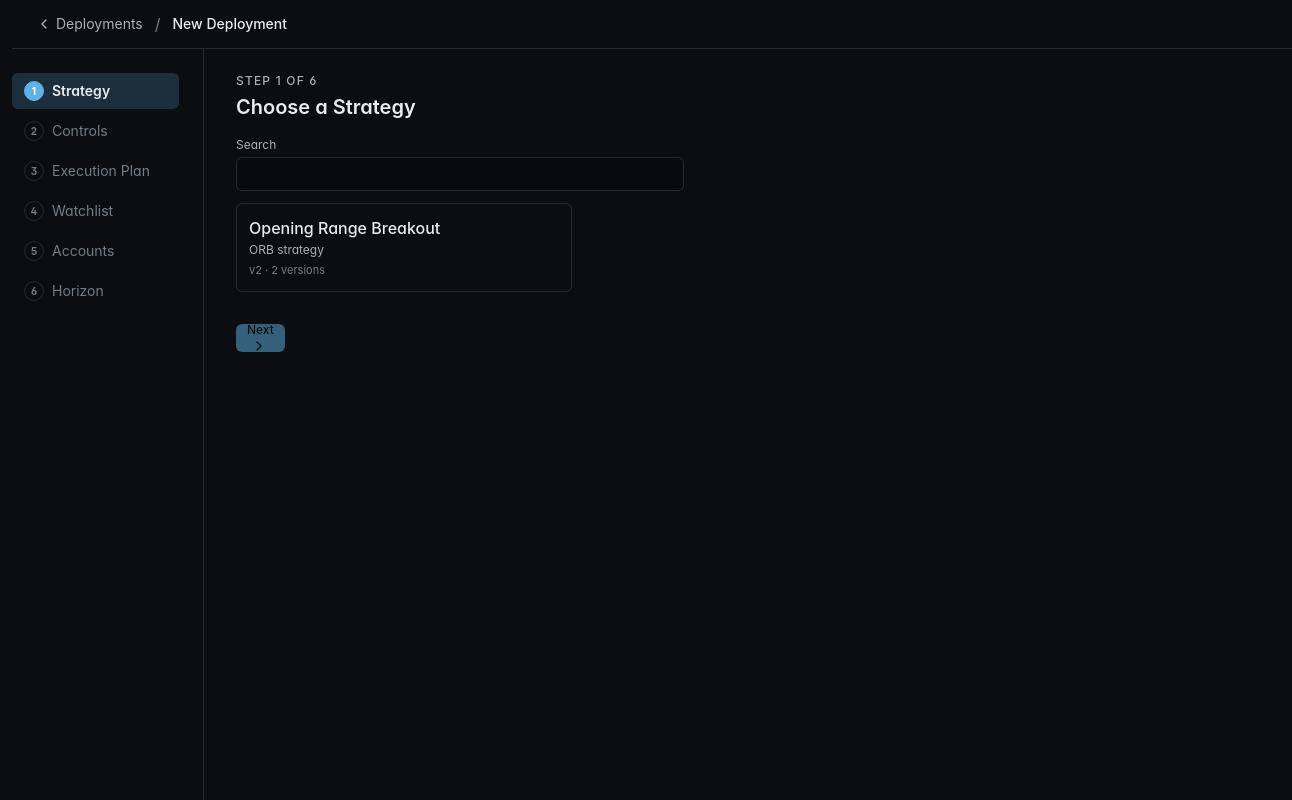
Test case: <NewDeploymentScreen /> › Step 4 (Watchlist) requires at least one selection before Next
Click the text "Opening Range Breakout" at (345, 228), box [249,218,440,238]
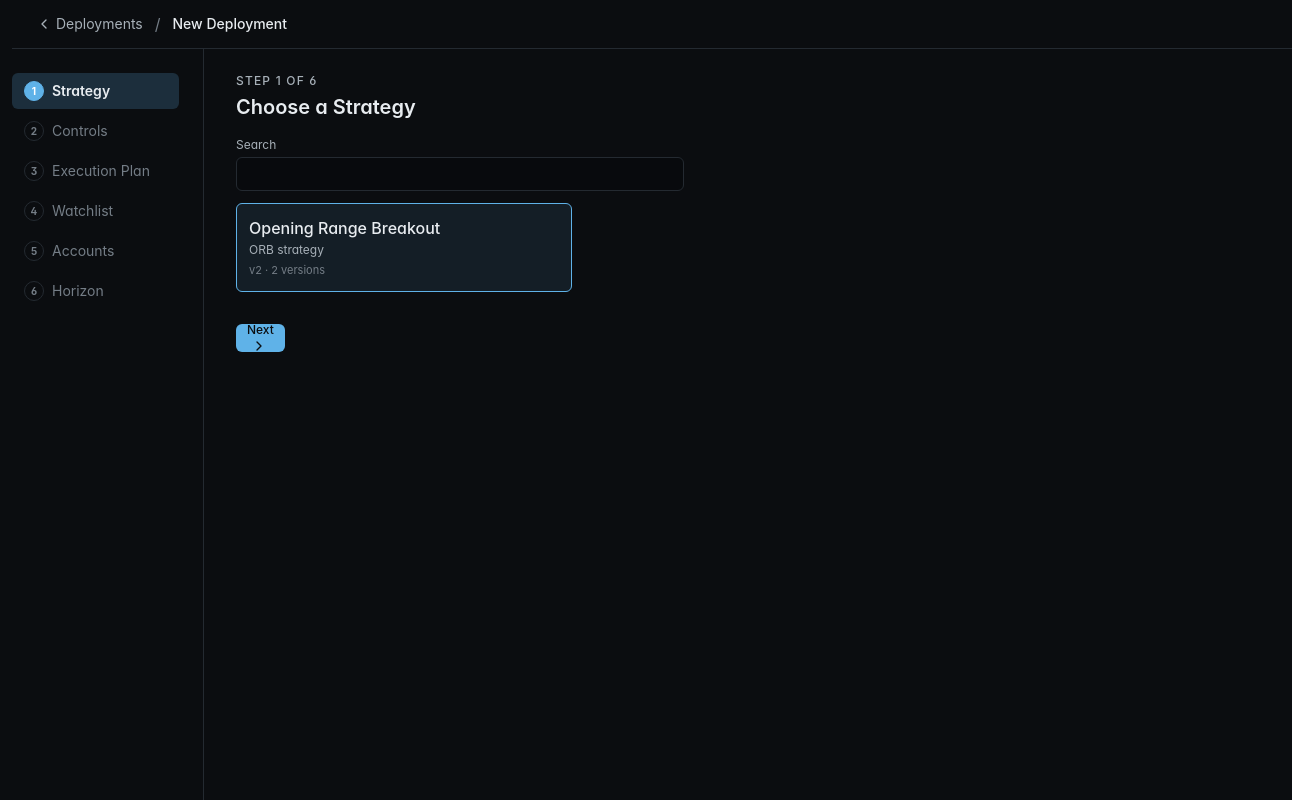
Click the button "Next" at (260, 338), box [236,324,285,352]
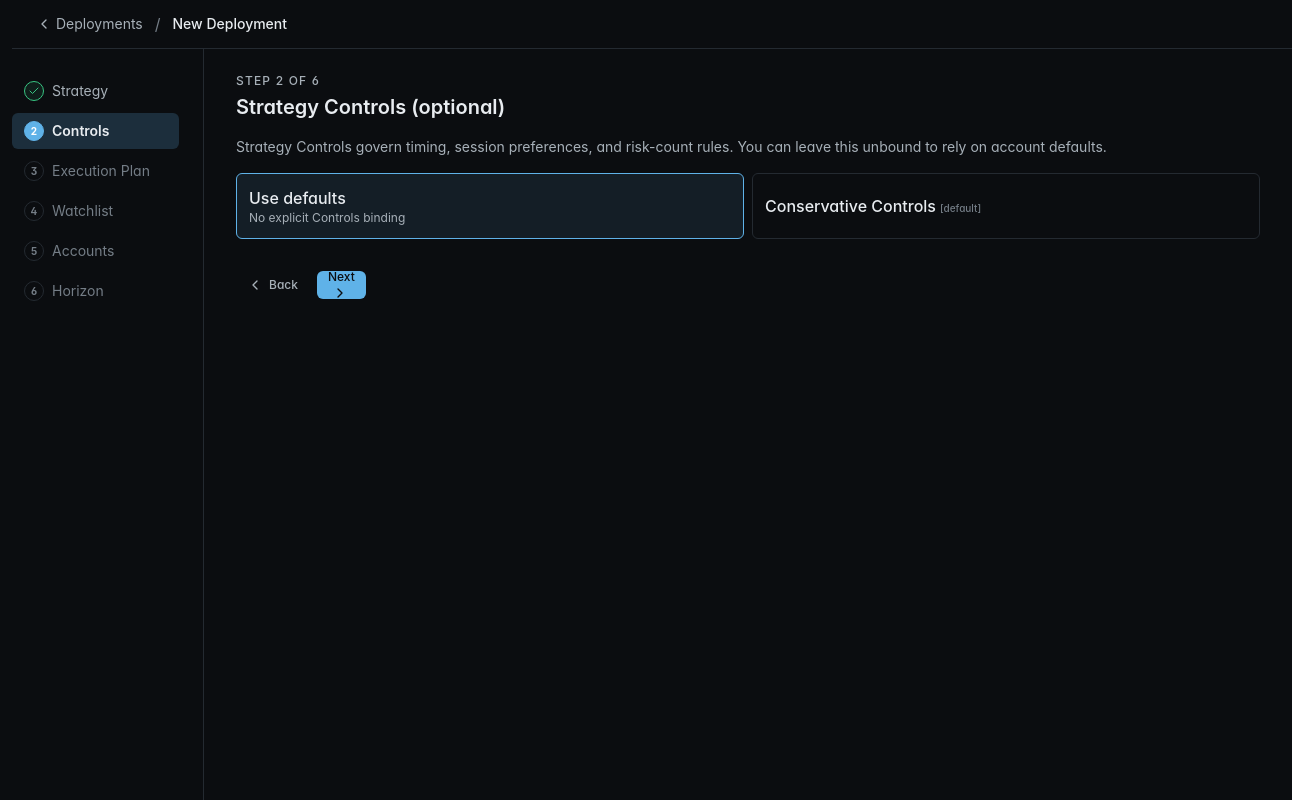
Expected: the text "Step 2 of 6" is shown, [236,73,320,88]
// Step 2 (Controls — optional)
Click the button "Next" at (341, 285), box [317,271,366,299]
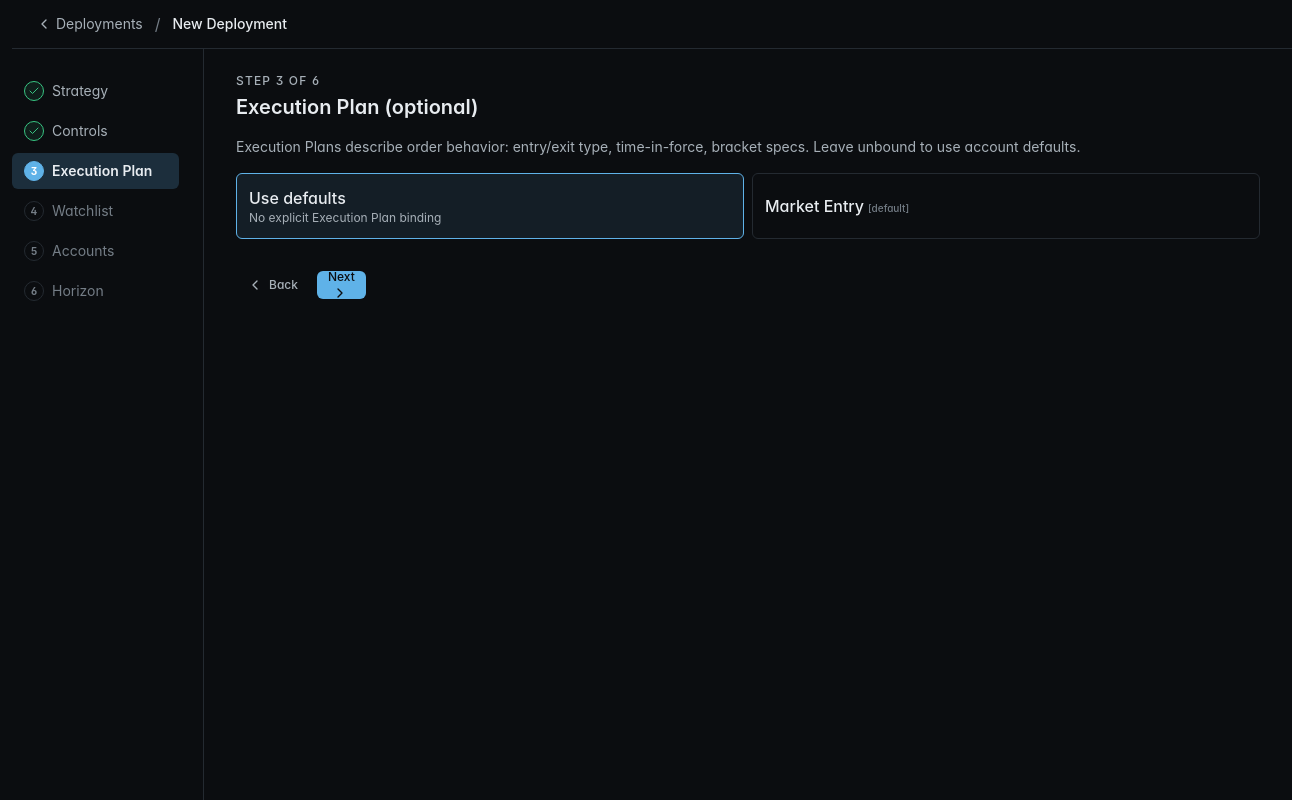
Expected: the text "Step 3 of 6" is shown, [236,73,320,88]
// Step 3 (Exec Plan — optional)
Click the button "Next" at (341, 285), box [317,271,366,299]
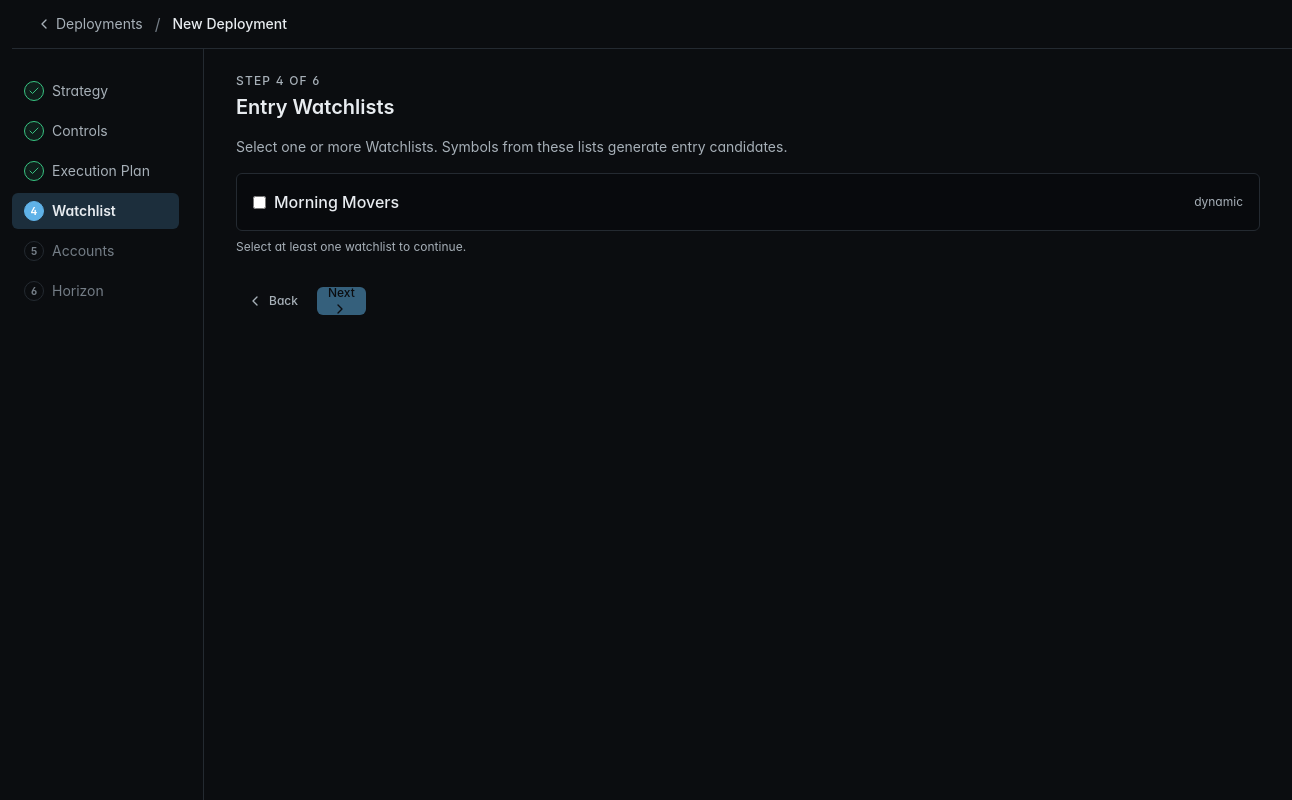
Expected: the text "Step 4 of 6" is shown, [236,73,320,88]
Expected: the button "Next" is disabled, [317,287,366,315]
// Select a watchlist via checkbox
Click the checkbox labelled "Morning Movers dynamic" at (260, 202), box [253,196,266,208]
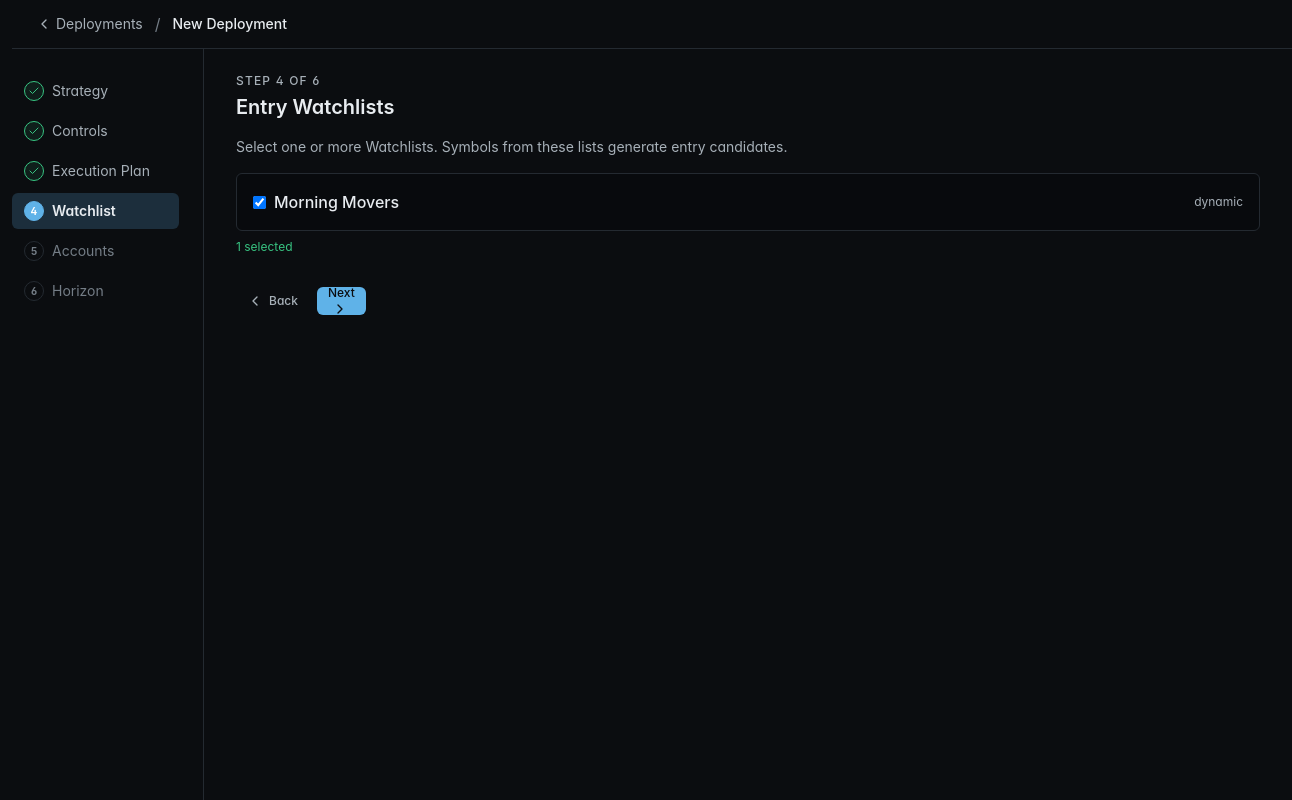
Expected: the button "Next" is enabled, [317,287,366,315]
